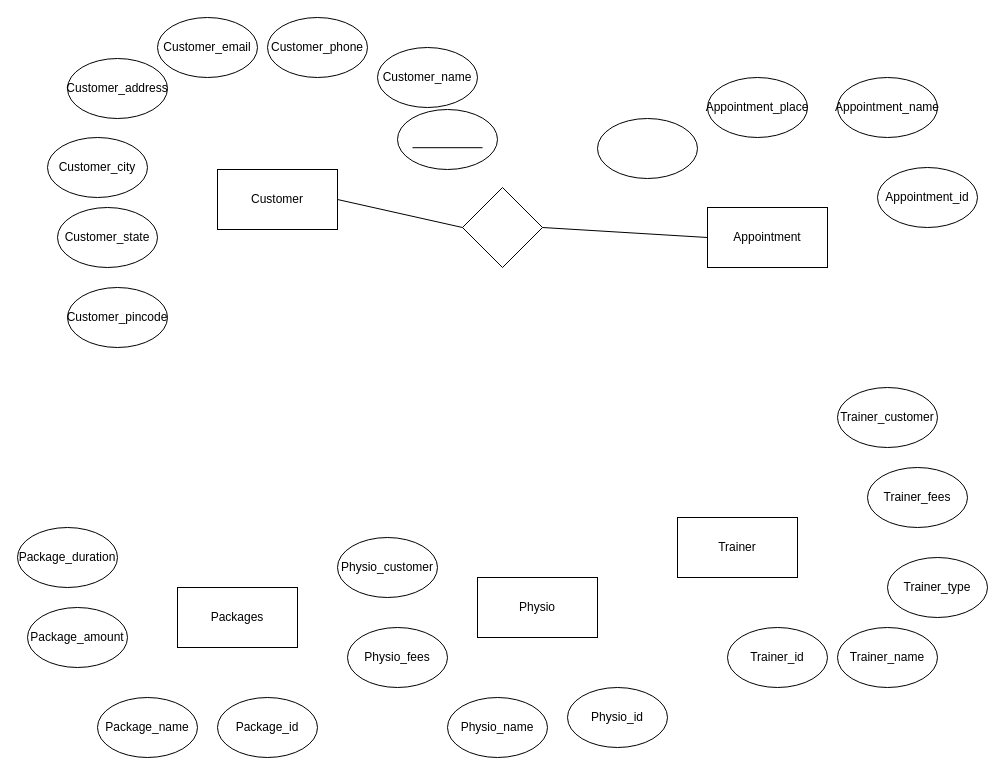
This 1005x775 diagram has some shape labels left out. Each missing label, with the centre of its shape:
Books an appointment: the point at 502,227
Customer_id: the point at 447,139
